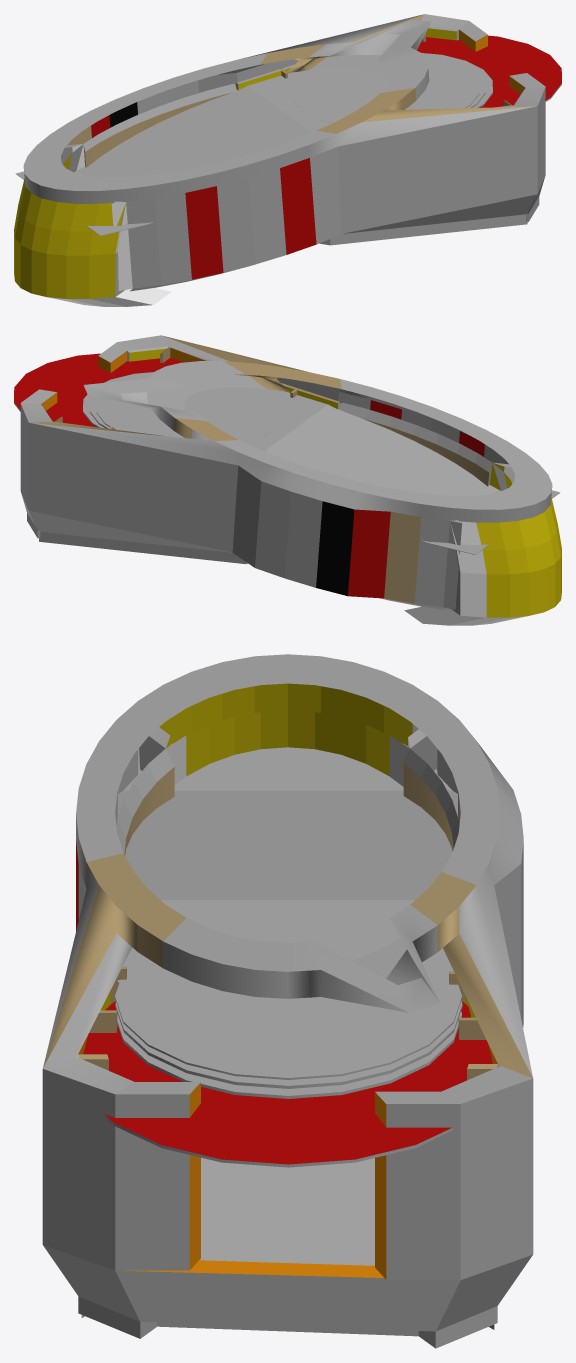
Rendered from cineModel.fbx.
3 views of the same model, one above another, from view 1: azimuth 30°, elevation 25°; view 2: azimuth 150°, elevation 25°; view 3: azimuth 270°, elevation 25° (orthographic). The views are drawn at different scales.
Parts seen in each view (by area): view 1: pCylinder4, pCube1, pCylinder1, pCylinder6, pCylinder5, pCylinder2; view 2: pCylinder4, pCube1, pCylinder1, pCylinder6, pCylinder5; view 3: pCylinder4, pCube1, pCylinder1, pCylinder6, pCylinder5, pCylinder2.
Boxes of the visible parts, box(x1,y1,x2,y2) form: pCylinder4: box(14, 14, 545, 306); pCube1: box(15, 70, 331, 235); pCylinder1: box(292, 55, 479, 123); pCylinder6: box(417, 35, 561, 107); pCylinder5: box(422, 53, 492, 107); pCylinder2: box(423, 54, 485, 108); pCylinder4: box(20, 335, 561, 625); pCube1: box(244, 388, 560, 554); pCylinder1: box(96, 374, 282, 441); pCylinder6: box(14, 353, 184, 427); pCylinder5: box(83, 372, 153, 428); pCylinder4: box(42, 654, 533, 1348); pCube1: box(118, 743, 457, 982); pCylinder1: box(115, 914, 461, 1079); pCylinder6: box(83, 1001, 492, 1167); pCylinder5: box(117, 1011, 461, 1098); pCylinder2: box(115, 1001, 462, 1088).
Bounding box in the file's own units: 19166 × 5488 × 7691.
